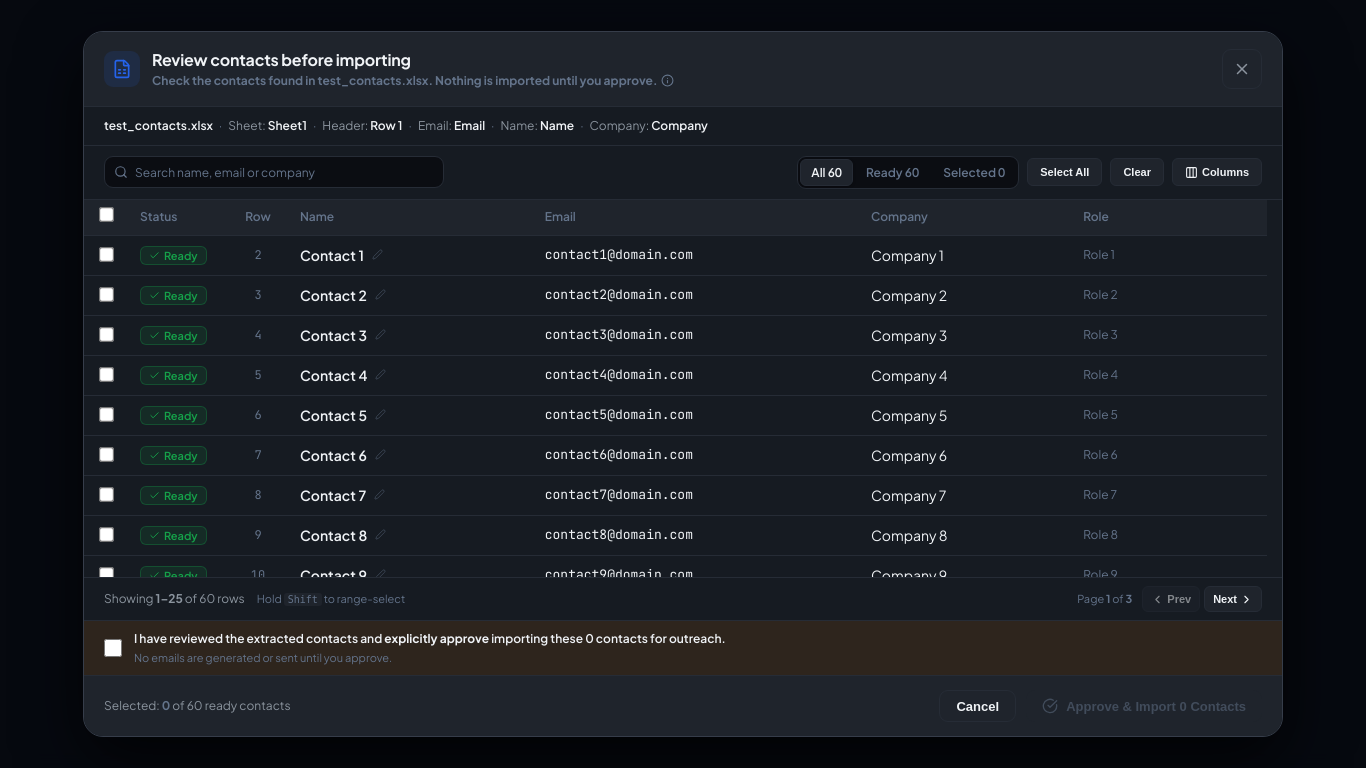
RecipientModal Empirical Pagination & Selection Stress Suite › supports Shift-click multi-selection across page boundaries
This screenshot has width=1366, height=768.
Page 1: click first row (index 0) without shift
Step 1. Click the text "contact1@domain.com" → (676, 256), box left=84, top=236, right=1267, bottom=276
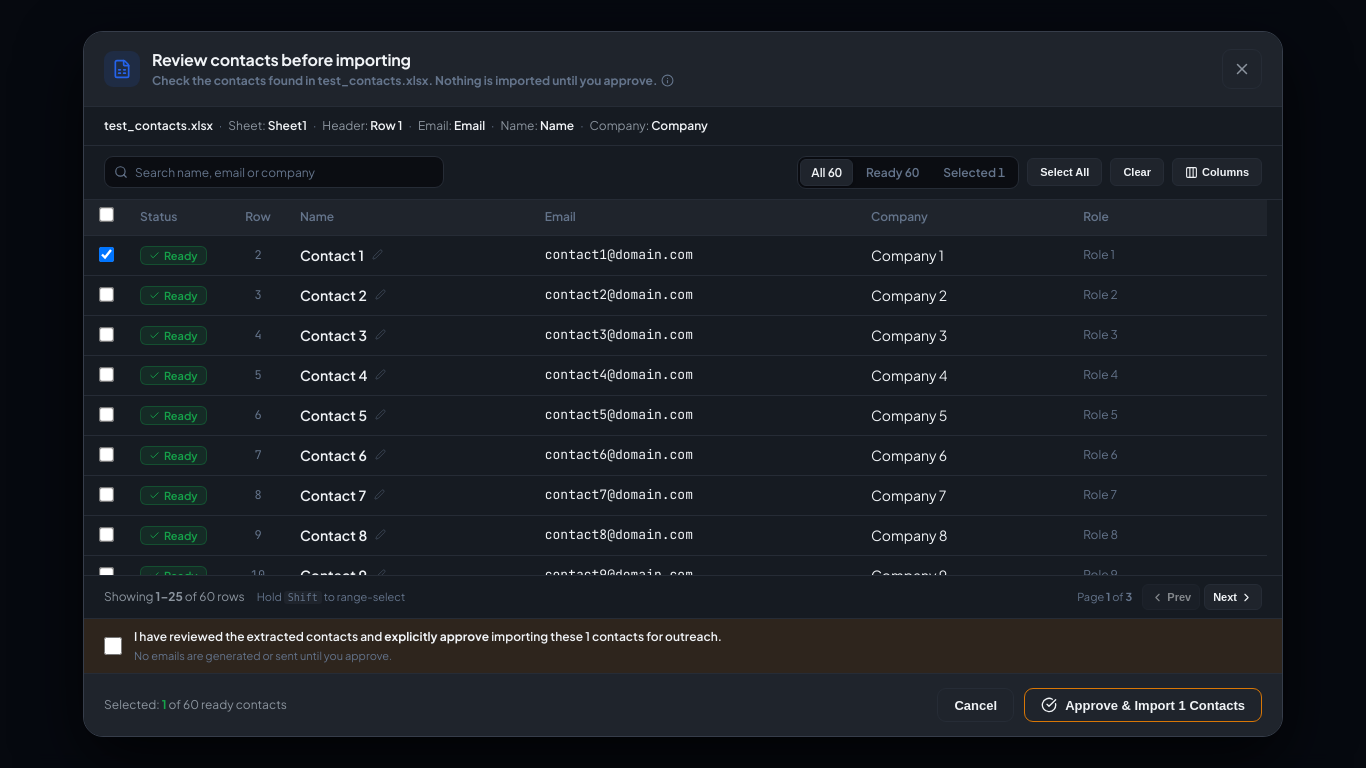
Result: the radio button labelled "Selected 1" is shown at left=932, top=159, right=1016, bottom=186
Result: the button "Approve & Import 1 Contacts" is shown at left=1024, top=688, right=1262, bottom=722
Advance to Page 2
Step 2. Click the button with aria-label "Next Page" → (1233, 597), box left=1204, top=584, right=1262, bottom=610
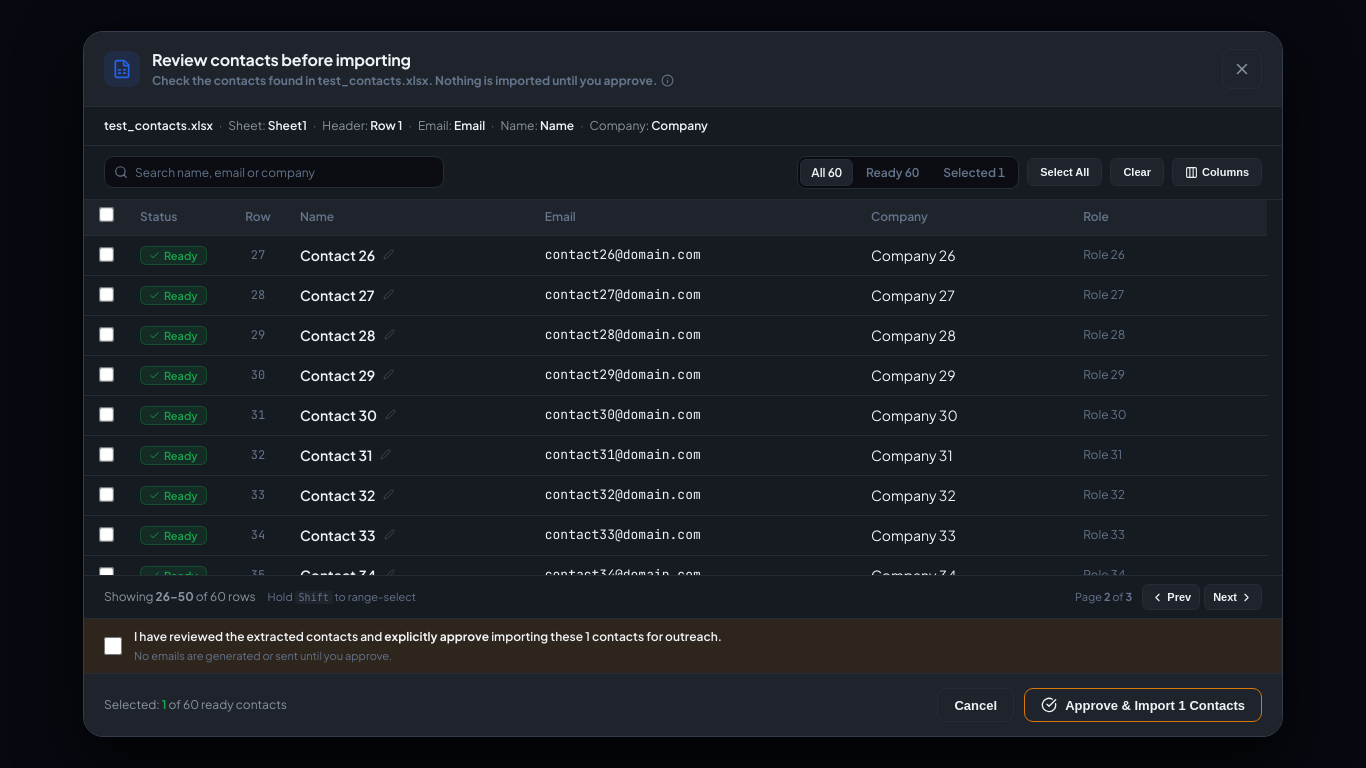
Result: the text "26–50" is shown at left=156, top=589, right=194, bottom=604
Step 3. Click the text "contact28@domain.com" → (676, 336), box left=84, top=316, right=1267, bottom=356
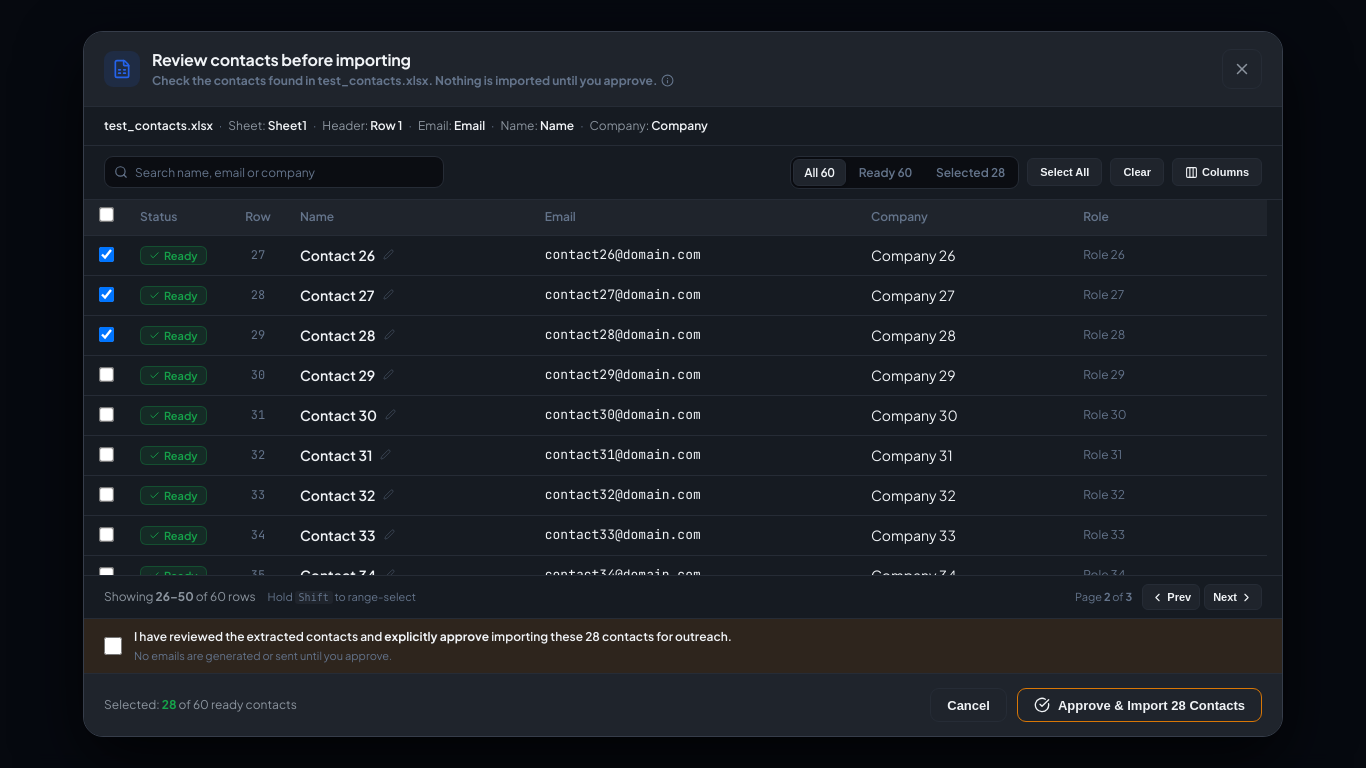
Result: the radio button labelled "Selected 28" is shown at left=925, top=159, right=1016, bottom=186
Result: the button "Approve & Import 28 Contacts" is shown at left=1017, top=688, right=1262, bottom=722
Return to Page 1 and verify selection persisted across navigation
Step 4. Click the button with aria-label "Previous Page" → (1171, 597), box left=1142, top=584, right=1200, bottom=610
(page scrolled)
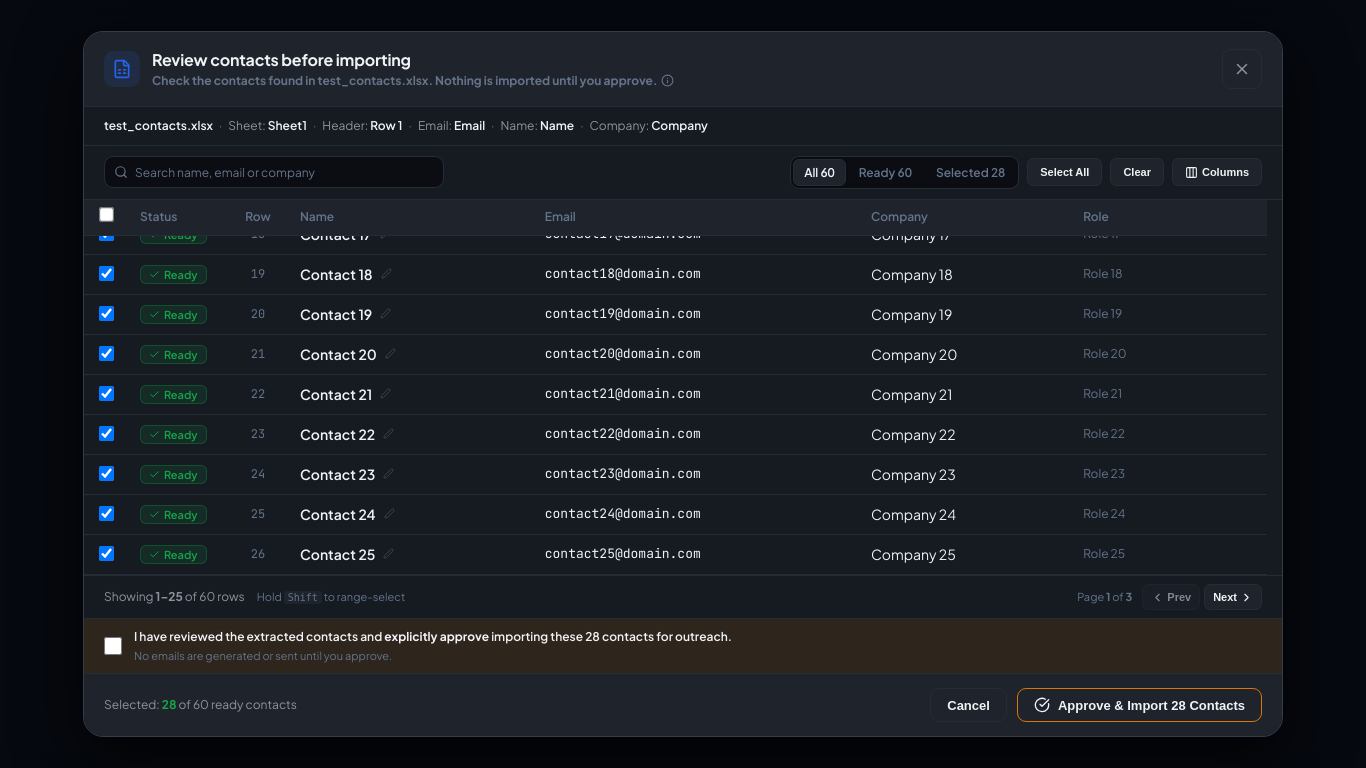
Result: the text "1–25" is shown at left=156, top=589, right=183, bottom=604
